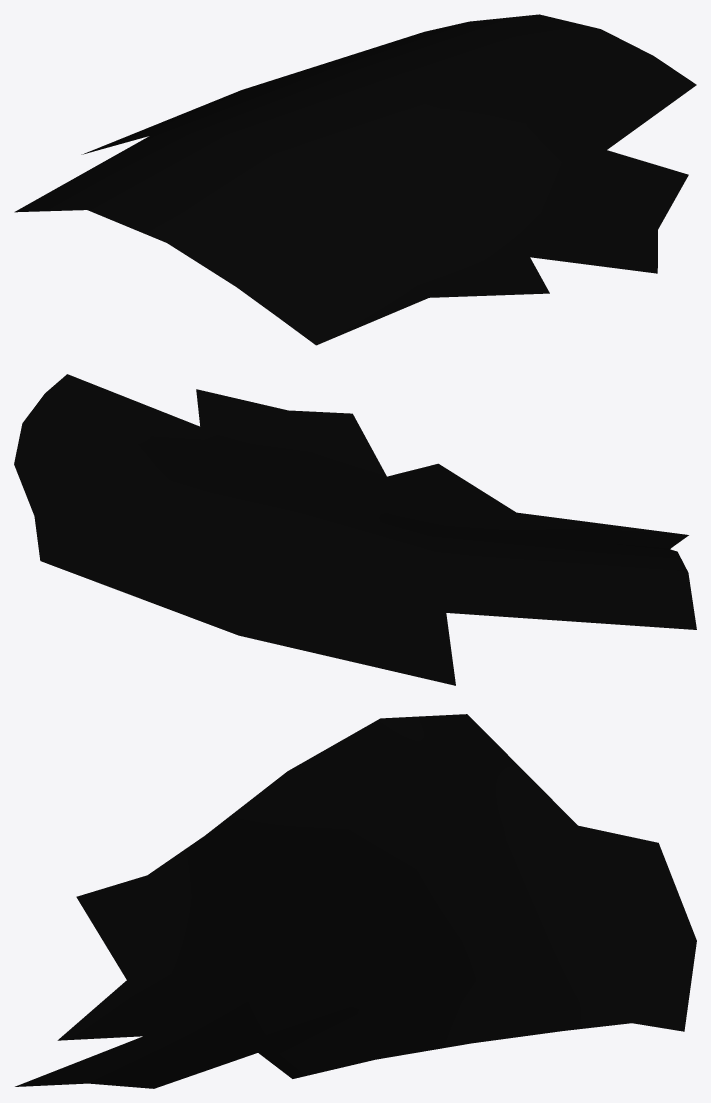
The model's file is HTOWN01_TREESHADOWS23.fbx.
3 views of the same model, one above another, from view 1: azimuth 30°, elevation 25°; view 2: azimuth 150°, elevation 25°; view 3: azimuth 270°, elevation 25° (orthographic). The views are drawn at different scales.
Parts seen in each view (by area): view 1: HTOWN01_TREESHADOWS23; view 2: HTOWN01_TREESHADOWS23; view 3: HTOWN01_TREESHADOWS23.
Boxes of the visible parts, <box> form: HTOWN01_TREESHADOWS23: <box>14,14,696,345</box>; HTOWN01_TREESHADOWS23: <box>14,374,696,685</box>; HTOWN01_TREESHADOWS23: <box>15,714,696,1088</box>.
Size of the model in its own units: 266143 by 41678 by 192838.
Materials: 1 (1 with a texture image).
